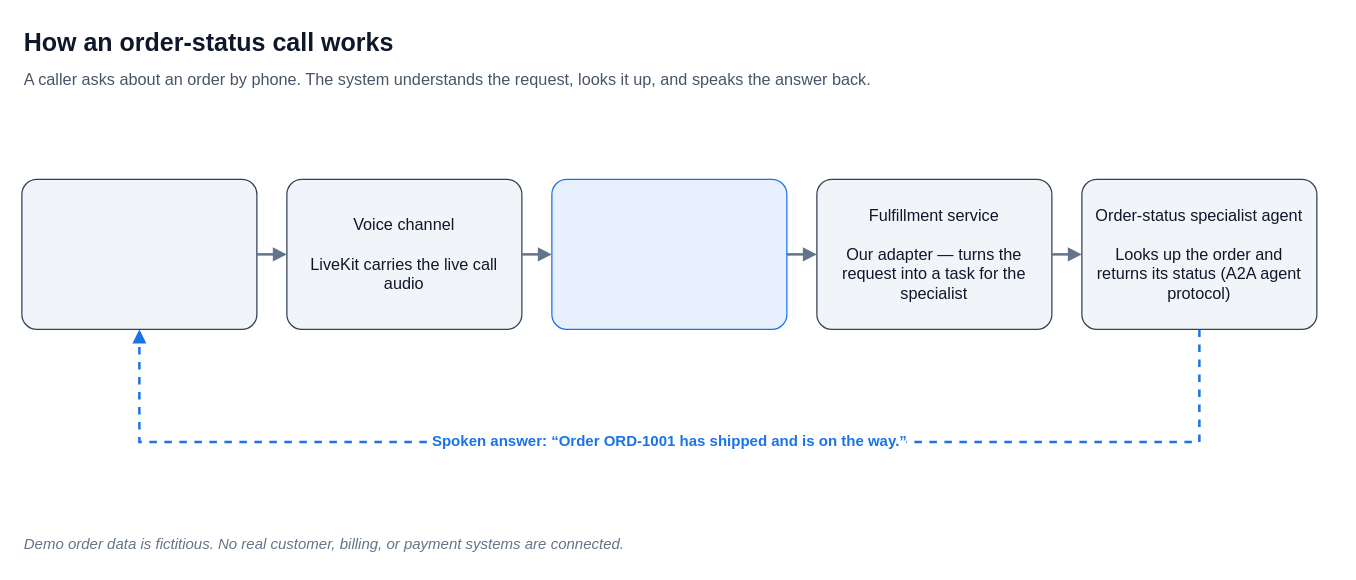
Image size: 1356x580. Some labels were removed from this diagram. The box of each missing label's shape, as (x1, y1, x2, y2) in pixels:
Caller Asks: “Where is my order ORD-1001?”: (21, 178, 257, 329)
Google Dialogflow CX Understands speech, runs the conversation, speaks the reply: (551, 178, 787, 329)
